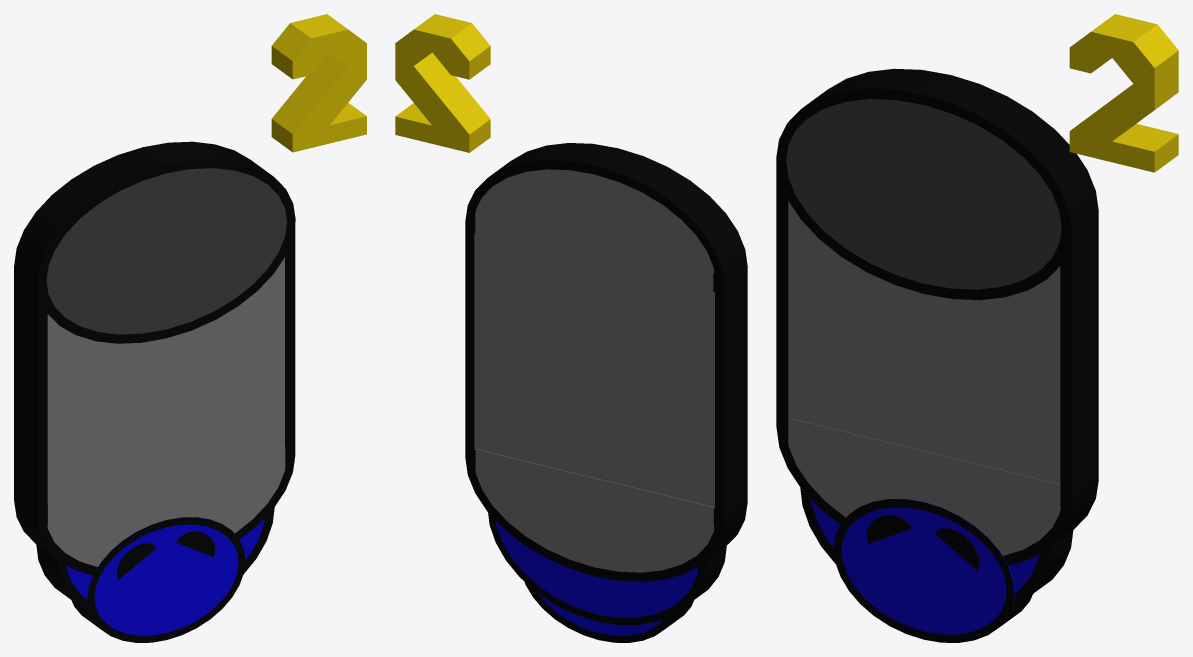
The model's file is MinigameTrigger22.fbx.
The picture shows the model from 3 angles, left to right: view 1: azimuth 30°, elevation 25°; view 2: azimuth 150°, elevation 25°; view 3: azimuth 330°, elevation 25°; orthographic projection. The views are drawn at different scales.
Parts seen in each view (by area): view 1: 실린더; view 2: 실린더; view 3: 실린더.
Part boxes in pixels (left/top/right/bottom): 실린더: left=14, top=14, right=366, bottom=642; 실린더: left=395, top=14, right=747, bottom=642; 실린더: left=776, top=14, right=1178, bottom=642.
Size of the model in its own units: 255 by 419 by 32.43.
